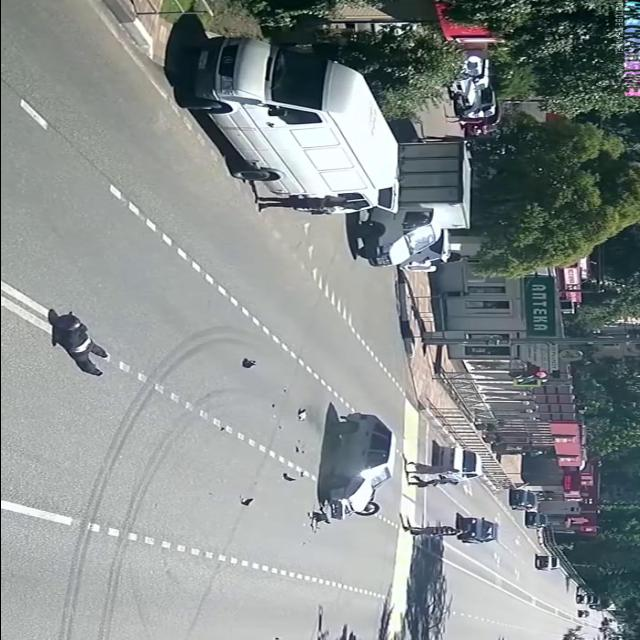accident: (233, 402, 403, 536), (33, 303, 127, 389)
non_accident: (166, 28, 478, 277), (399, 442, 489, 494), (505, 486, 553, 531)
